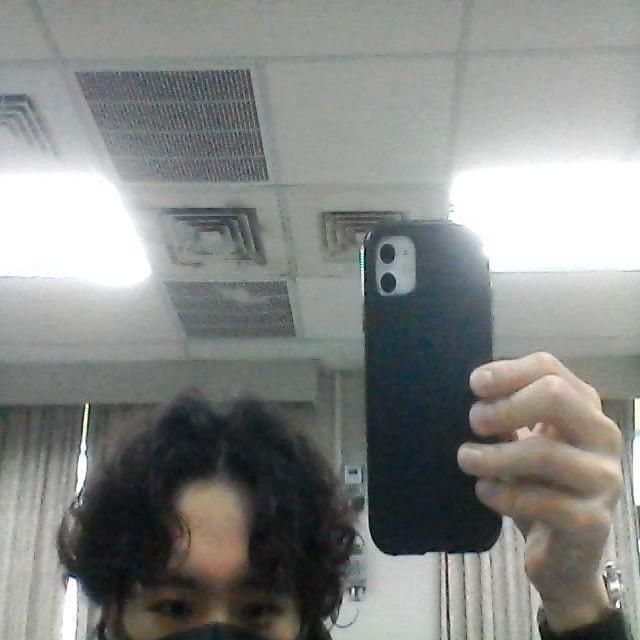smart phone: (353, 188, 510, 578)
